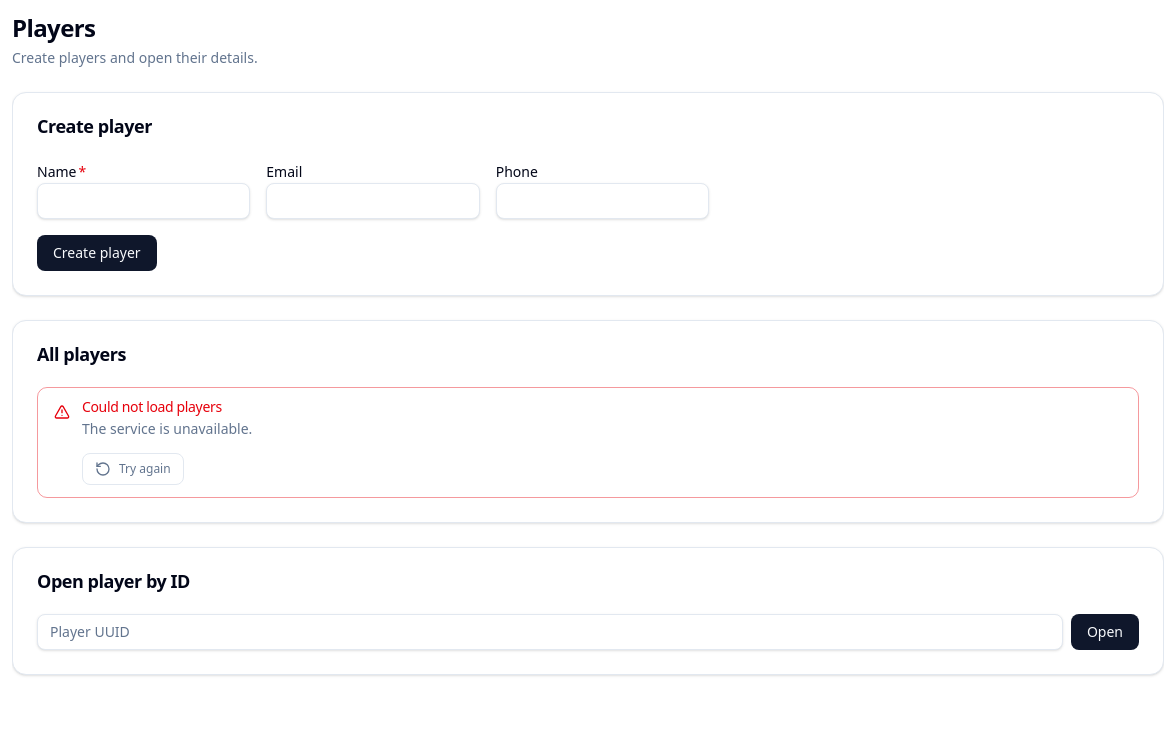
Test: PlayersPage collection list › shows an error state and refetches on retry
This screenshot has width=1164, height=732.
Check: the message "Could not load players The service is unavailable. Try again" is shown, box [37,387,1139,498]
Click the button "Try again" at (133, 469), box [82,453,184,485]
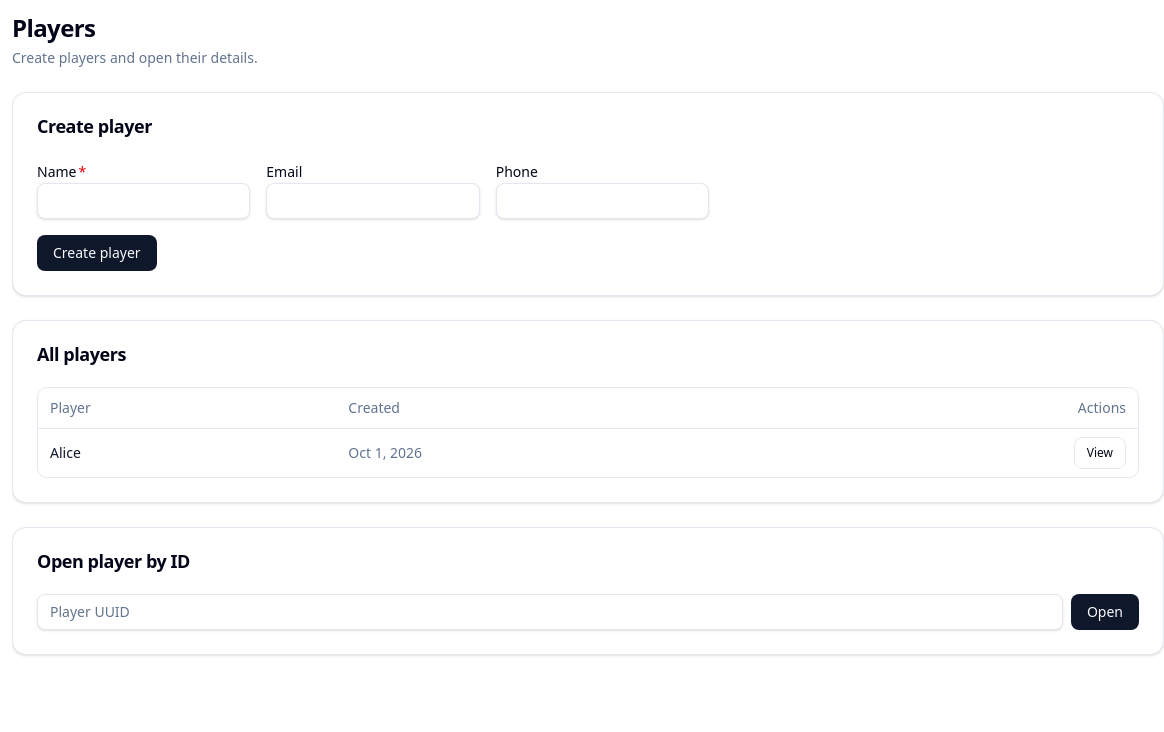
Check: the link "Alice" is shown, box [50,442,81,462]
